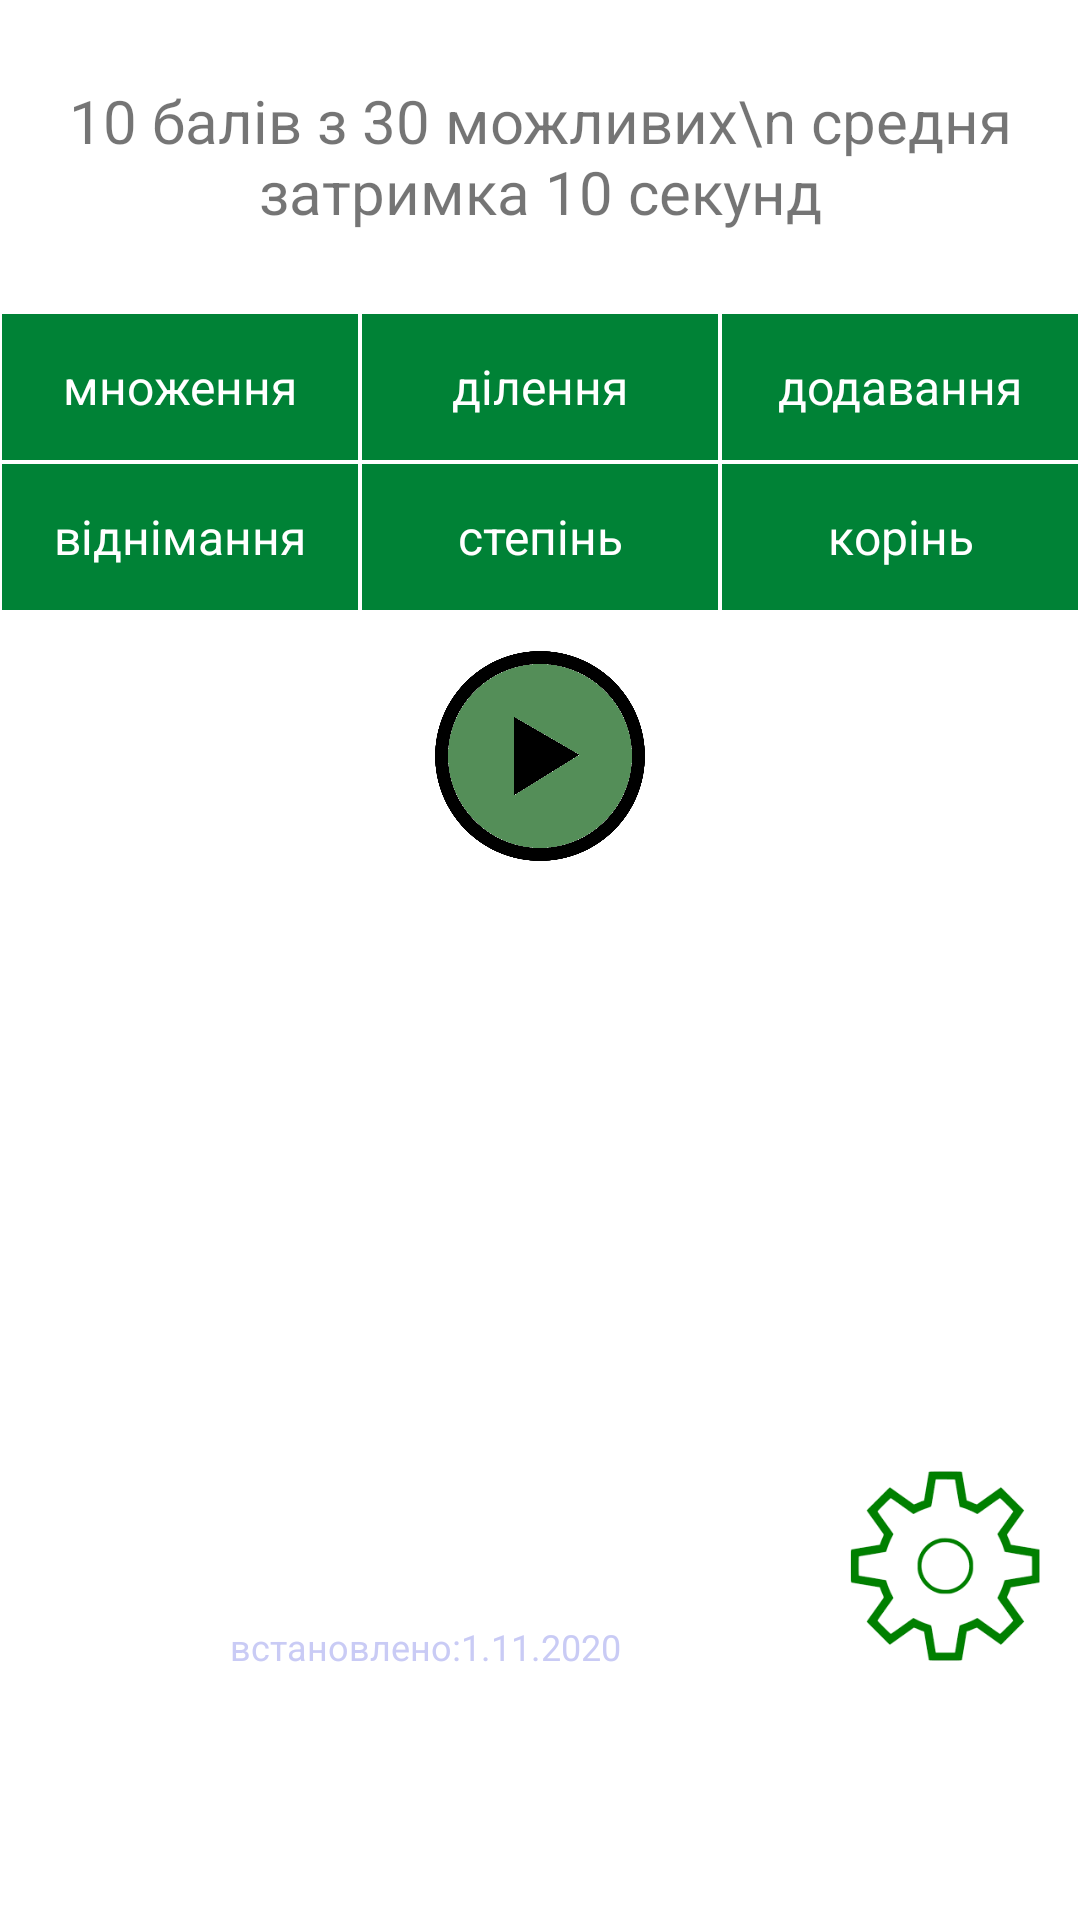

Icons on this 1080 × 1920 Android screen, each with its box as (x1, y1, x2, y2):
settings: (850, 1471, 1040, 1661)
start: (435, 651, 645, 861)
